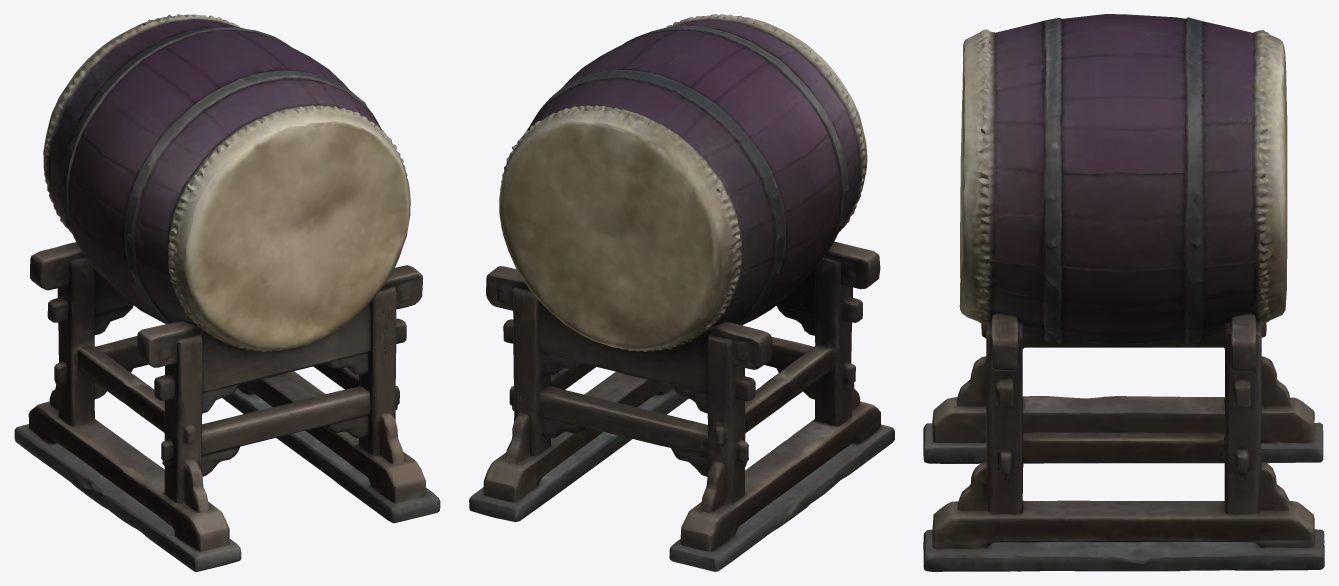
File: PROP-005.glb
3 views of the same model, side by side, from view 1: azimuth 30°, elevation 25°; view 2: azimuth 150°, elevation 25°; view 3: azimuth 270°, elevation 25° (orthographic). The views are drawn at different scales.
Visible parts, largest first — view 1: world; view 2: world; view 3: world.
Part boxes in pixels (box(x1,y1,x2,y2)): world: box(14, 14, 440, 571); world: box(469, 14, 894, 571); world: box(923, 14, 1324, 571).
Bounding box in the file's own units: 0.6122 × 0.8999 × 0.6901.
Materials: 1 (1 with a texture image).
